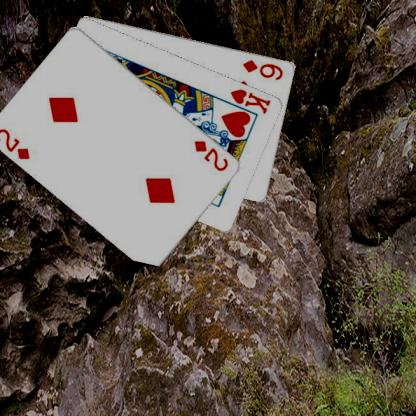2D: (192, 137, 230, 173), (0, 125, 32, 161)
6D: (240, 56, 285, 82)
KH: (228, 86, 272, 115)
